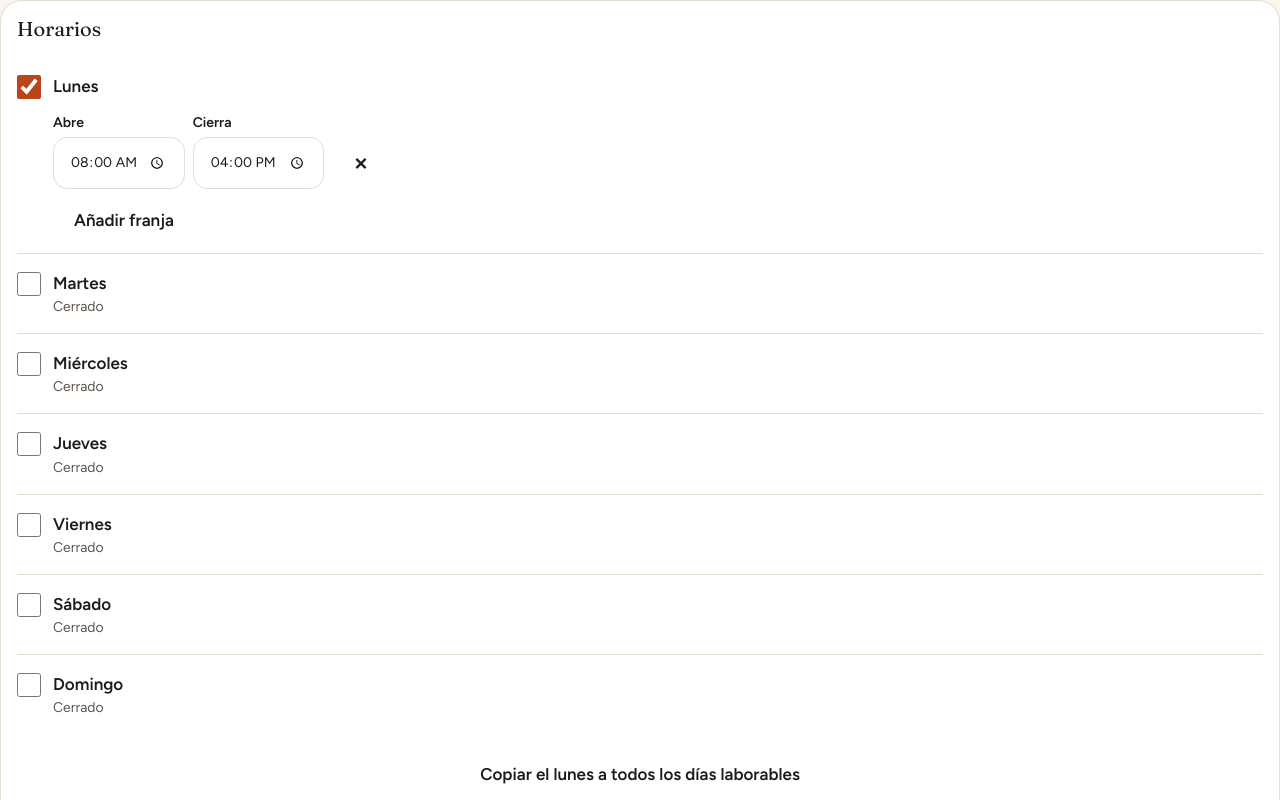
Scenario: EditorHorarios › quitar la única franja cierra el día
The width and height of the screenshot is (1280, 800).
Click the button named "Quitar la franja 1 de Lunes". click: (361, 165)
box: [332, 141, 389, 189]
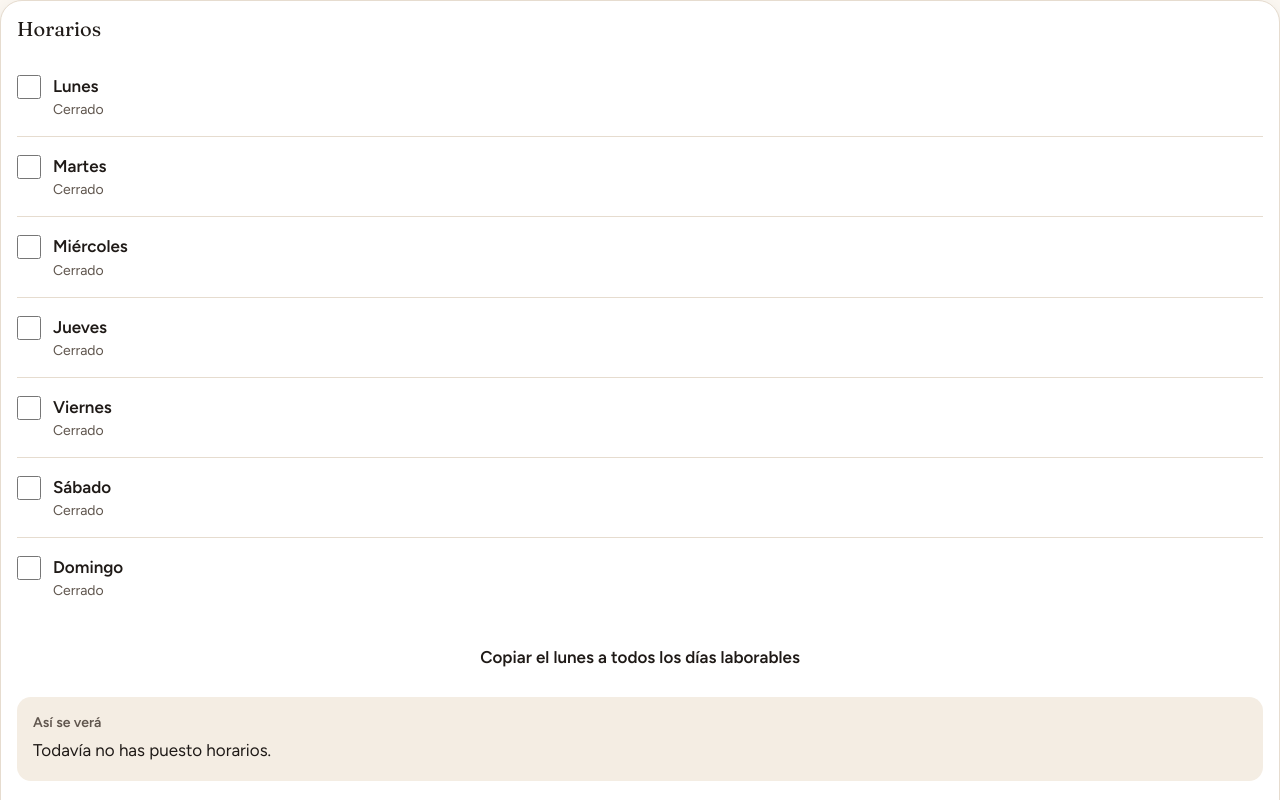
Now no fields labelled "Abre" are shown
Now the text "Todavía no has puesto horarios." is shown, box [33, 740, 271, 760]
